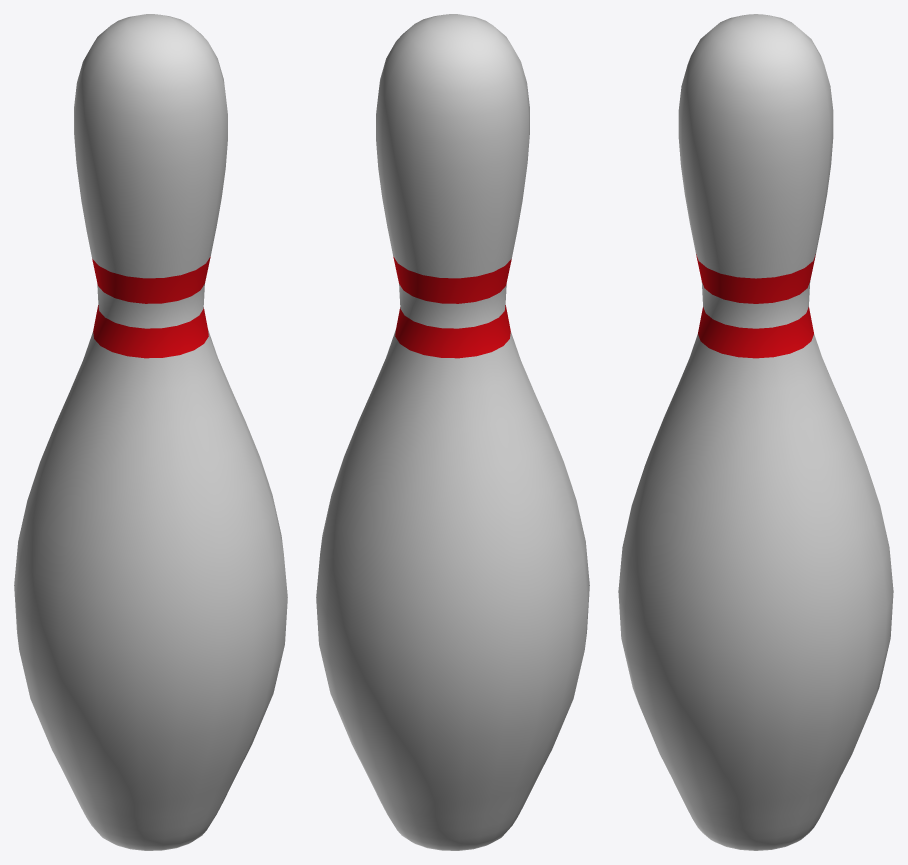
The model's file is pin.fbx.
3 renders of one model, left to right at view 1: azimuth 30°, elevation 25°; view 2: azimuth 150°, elevation 25°; view 3: azimuth 270°, elevation 25°, orthographic.
Visible parts, largest first — view 1: Pin1; view 2: Pin1; view 3: Pin1.
Part boxes in pixels (x1,y1,x2,y2): Pin1: (14,14,287,850); Pin1: (316,14,589,850); Pin1: (618,14,893,850).
Bounding box in the file's own units: 117 × 117 × 380.
